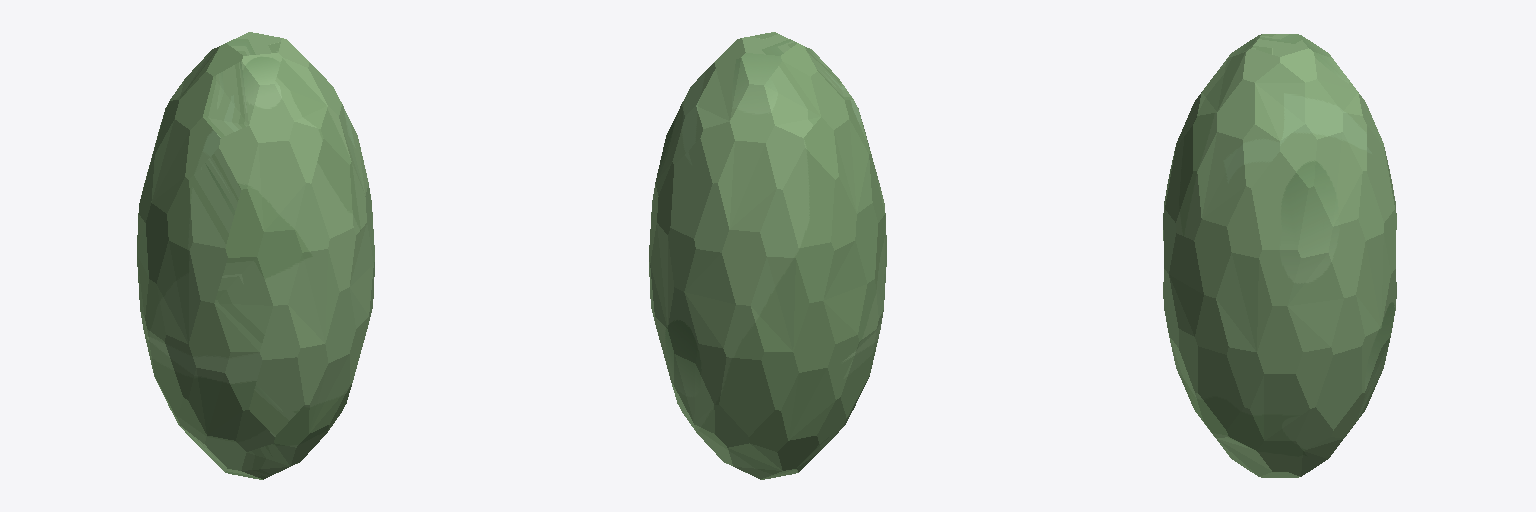
3 views of the same model, side by side, from view 1: azimuth 30°, elevation 25°; view 2: azimuth 150°, elevation 25°; view 3: azimuth 270°, elevation 25° (orthographic).
Visible parts, largest first — view 1: Icosphere.005; view 2: Icosphere.005; view 3: Icosphere.005.
Part boxes in pixels (x1,y1,x2,y2): Icosphere.005: (137,32,374,479); Icosphere.005: (649,32,886,479); Icosphere.005: (1163,34,1396,477).
Size of the model in its own units: 0.9511 by 1.86 by 0.9317.
Materials: 1 (1 with a texture image).